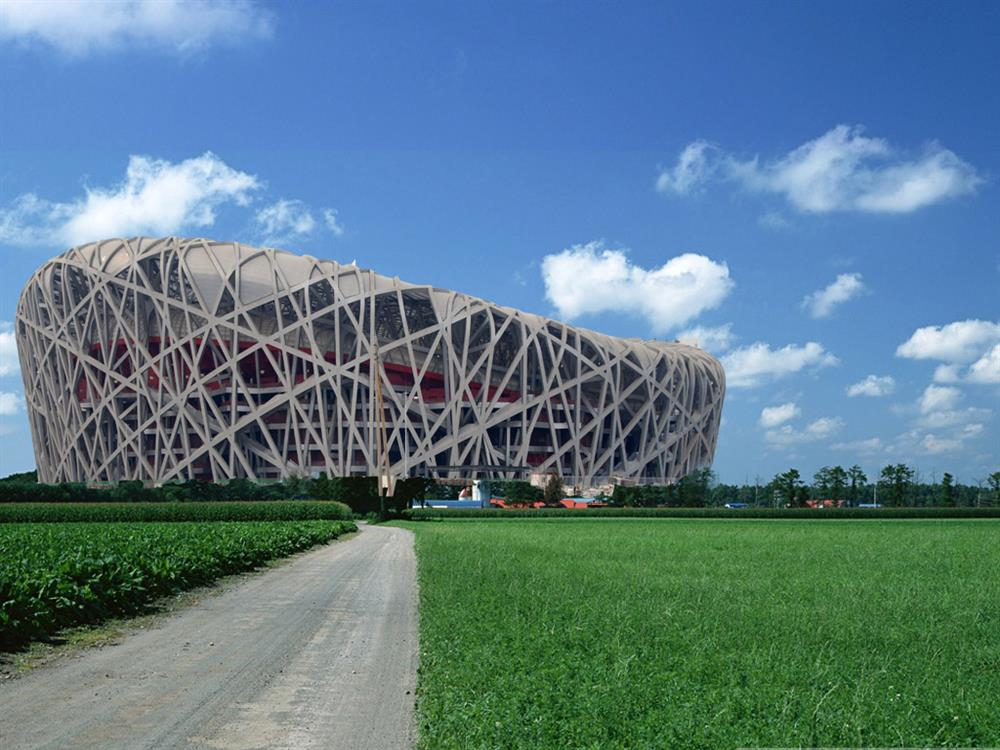National_Stadium: (16, 240, 724, 494)
